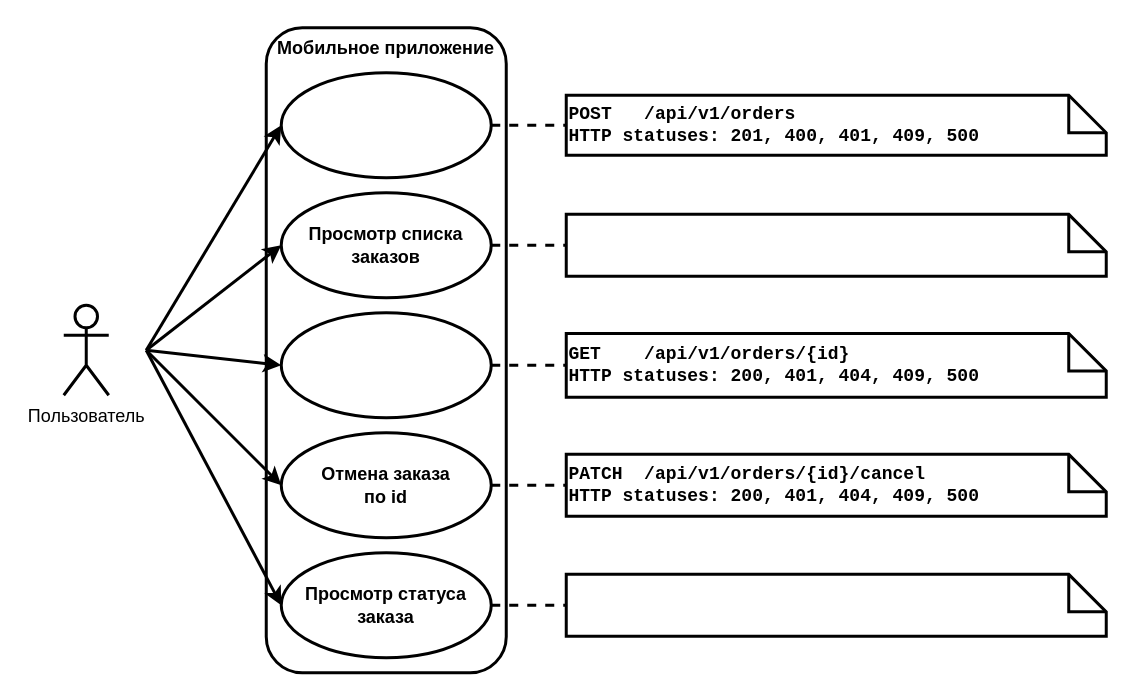
This 1133x699 diagram has some shape labels left out. Each missing label, with the centre of its shape:
GET /api/v1/order-status/order/{orderId} HTTP statuses: 200, 409, 500: point (835, 604)
GET /api/v1/orders HTTP statuses: 200, 401, 409, 500: point (835, 244)
Просмотр заказа по id: point (385, 364)
Создание заказа: point (385, 124)
